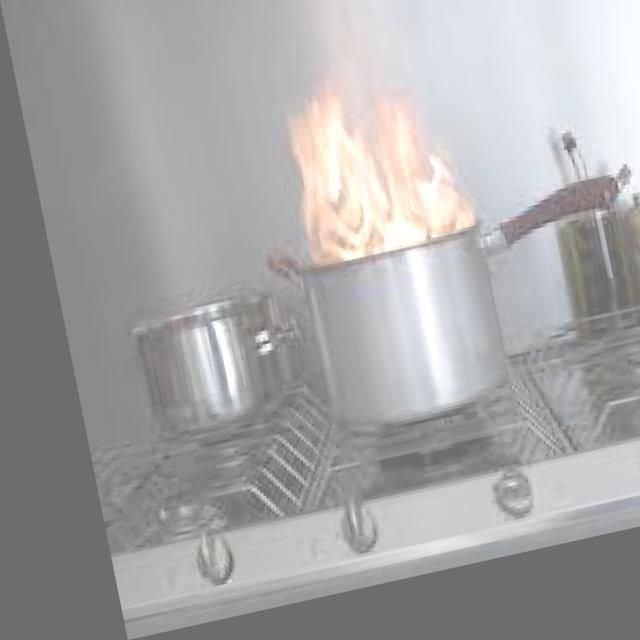Fire: (257, 74, 478, 292)
